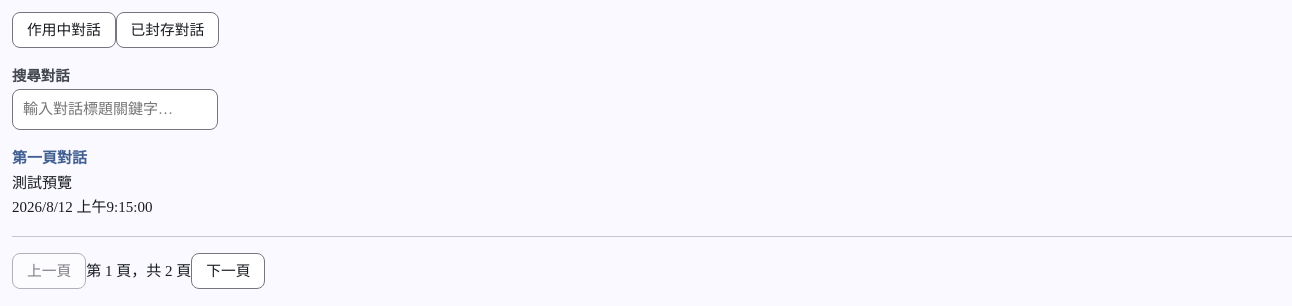
Test: ConversationList pagination (E03-S022) › clicking 下一頁 re-fetches with the next page number and shows its items
Expected: the text "第一頁對話" is shown, x1=12 y1=150 x2=87 y2=166
Click the button "下一頁" at (228, 271), box x1=191 y1=253 x2=265 y2=289
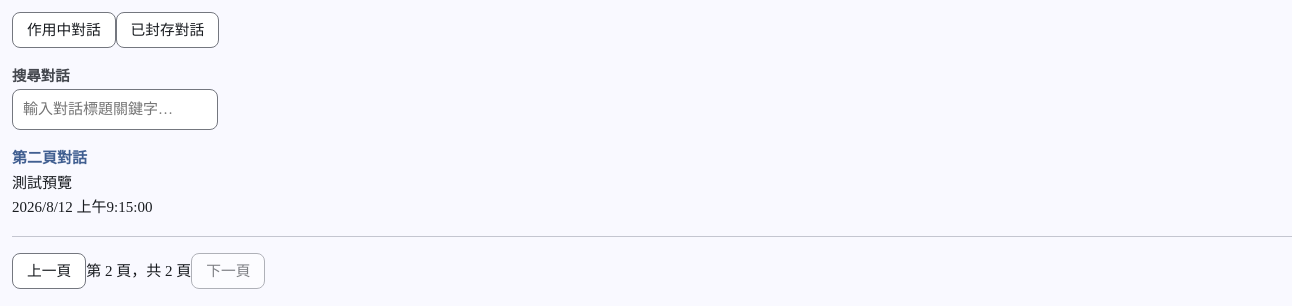
Expected: the text "第二頁對話" is shown, x1=12 y1=150 x2=87 y2=166
Expected: the link "第一頁對話" is gone
